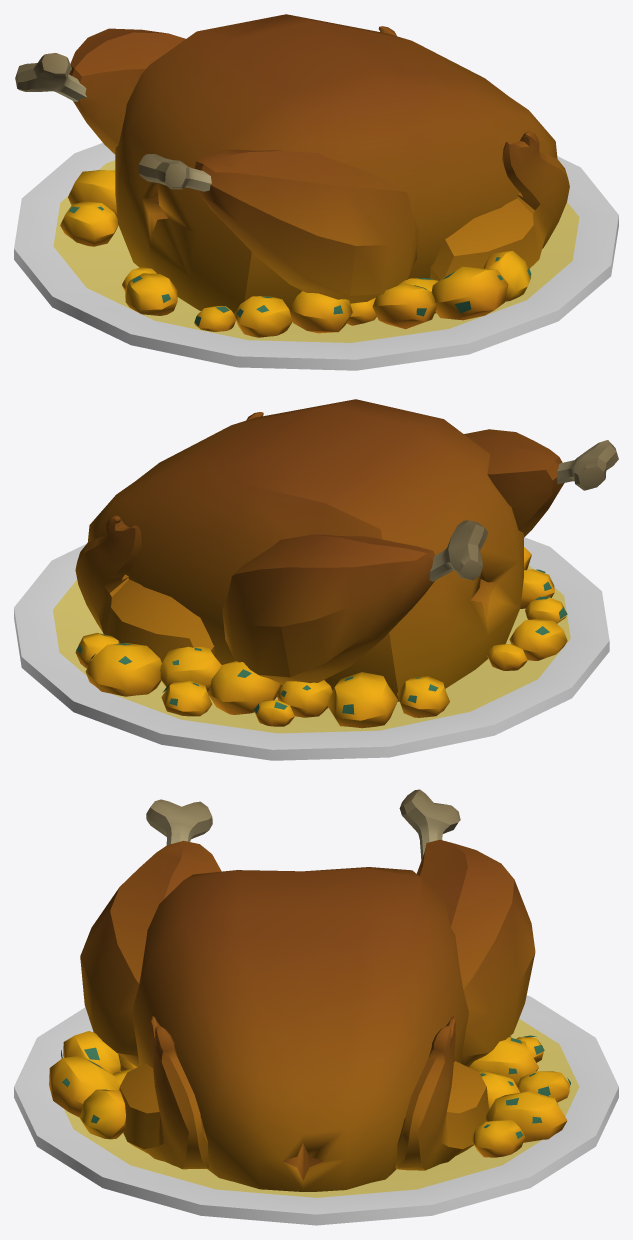
The model's file is 3D_dishe_Items_Roasted.fbx.
The picture shows the model from 3 angles, top to bottom: view 1: azimuth 30°, elevation 25°; view 2: azimuth 150°, elevation 25°; view 3: azimuth 270°, elevation 25°; orthographic projection.
Parts seen in each view (by area): view 1: 3D_dishe_Items_Roasted; view 2: 3D_dishe_Items_Roasted; view 3: 3D_dishe_Items_Roasted.
Boxes of the visible parts, x1=… form: 3D_dishe_Items_Roasted: x1=14, y1=14, x2=618, y2=370; 3D_dishe_Items_Roasted: x1=14, y1=399, x2=618, y2=760; 3D_dishe_Items_Roasted: x1=14, y1=789, x2=618, y2=1225.
Bounding box in the file's own units: 70.84 × 29.57 × 70.84.
